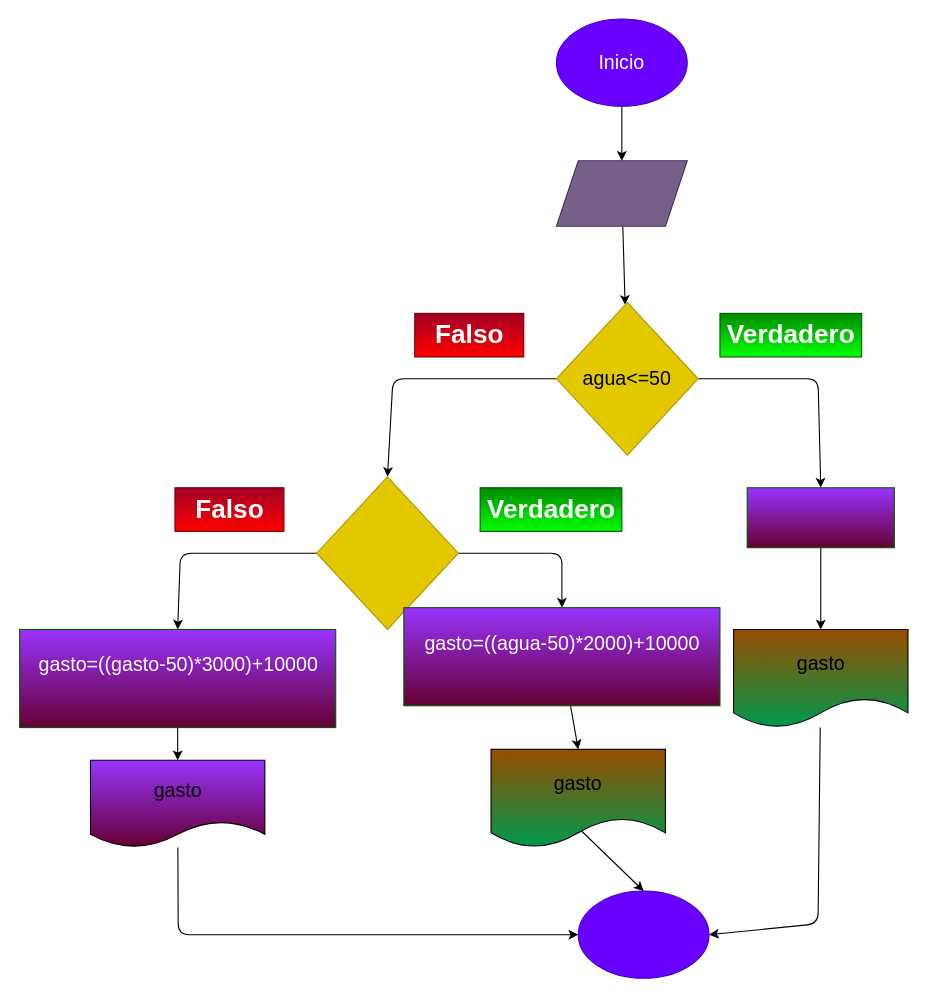
Some shapes in this 927 by 997 pixel diagram are drawn without their labels. The shapes that lost their labels are listed below. From the top down, each one's centre as x and y in pixels, then its label:
(x=621, y=193): agua
(x=820, y=517): gasto=10000
(x=387, y=552): agua<=200
(x=643, y=934): Fin
